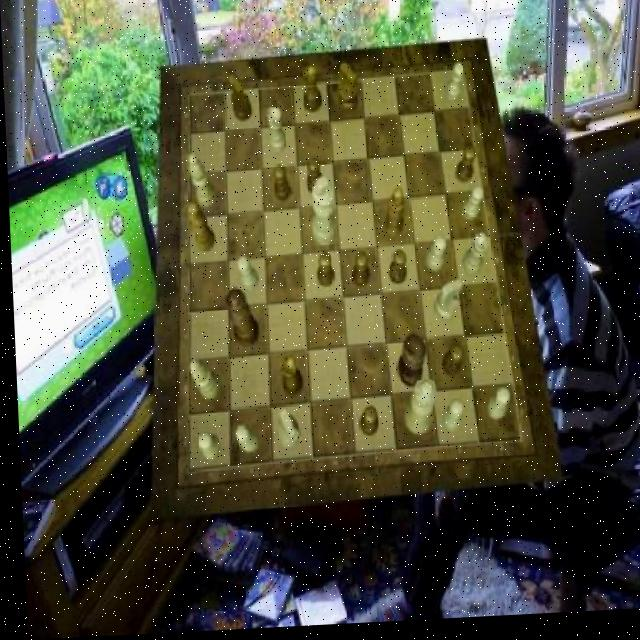bishop: (186, 202, 212, 254), (380, 192, 403, 242)
black-bishop: (392, 337, 423, 393)
black-king: (226, 76, 251, 125), (335, 64, 357, 117)
black-knight: (451, 150, 475, 187), (438, 348, 460, 383), (348, 255, 366, 292), (303, 161, 321, 198), (271, 167, 289, 204), (313, 256, 332, 291), (386, 253, 404, 288), (354, 412, 374, 442)
black-pawn: (221, 290, 256, 351)
black-queen: (276, 359, 299, 400), (302, 69, 321, 117)
black-rook: (186, 155, 214, 210), (186, 359, 217, 402)
white-bishop: (307, 177, 334, 249)
white-king: (431, 283, 461, 327), (274, 412, 298, 452)
white-knight: (442, 67, 464, 108), (481, 392, 507, 426), (459, 190, 482, 225), (422, 241, 444, 276), (234, 258, 255, 293), (438, 403, 460, 436), (193, 435, 217, 464), (231, 428, 255, 456)
white-pawn: (398, 382, 434, 441)
white-queen: (458, 237, 486, 281), (266, 109, 286, 155)
